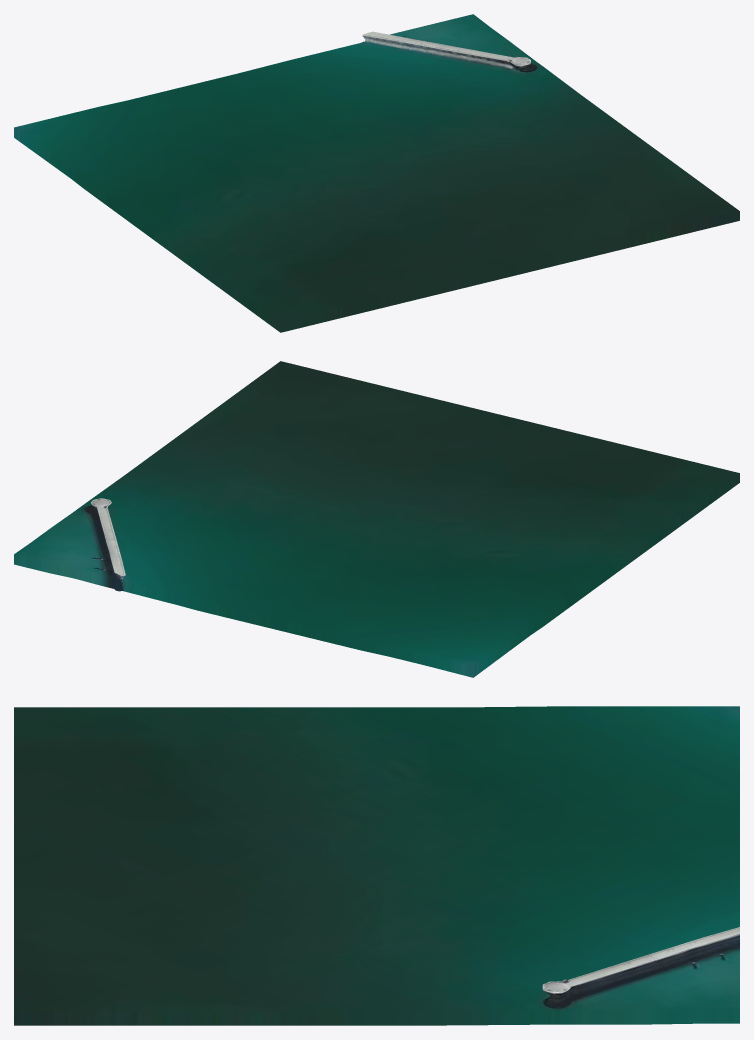
The model's file is z17-20975-50653-h0-yup-uvflip-v3-world.glb.
3 views of the same model, one above another, from view 1: azimuth 30°, elevation 25°; view 2: azimuth 150°, elevation 25°; view 3: azimuth 270°, elevation 25° (orthographic). The views are drawn at different scales.
Bounding box in the file's own units: 241 × 10.24 × 243.
1 material, 1 textured.
